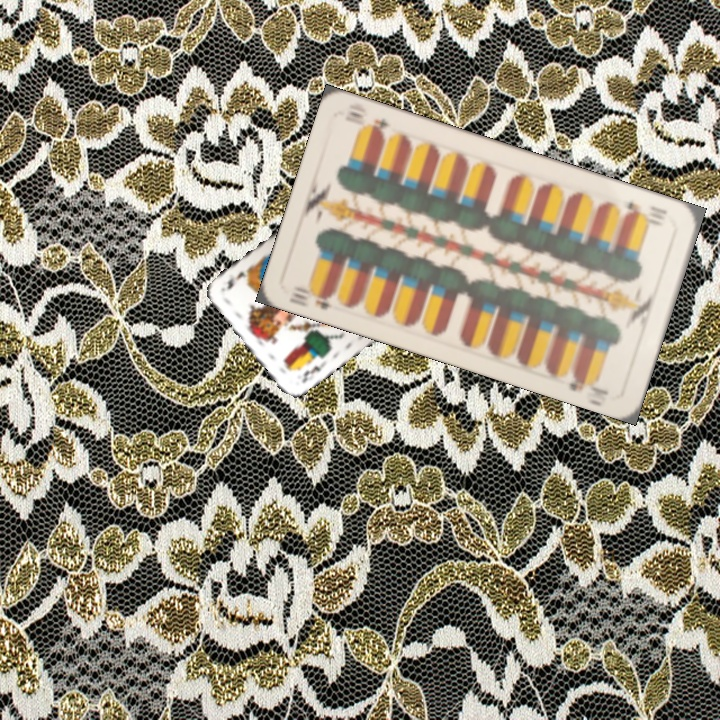E10: (288, 285, 341, 313), (621, 198, 670, 222)
EK: (298, 359, 325, 385)
